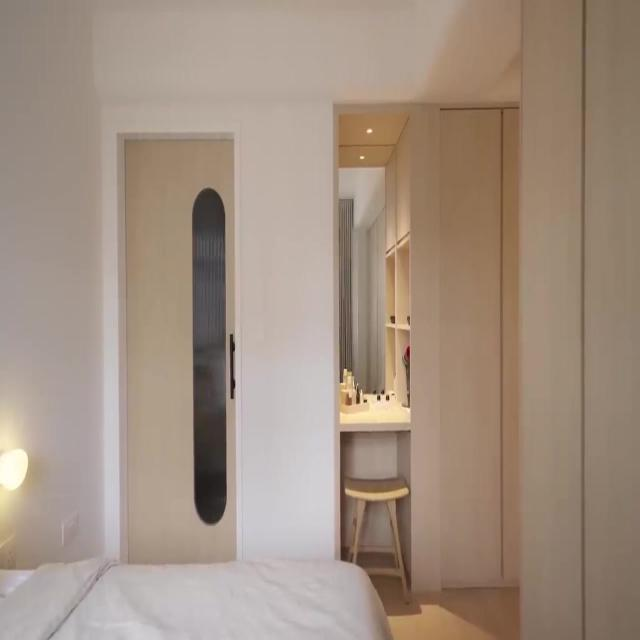door: (125, 134, 238, 564)
obstacle: (0, 555, 394, 638), (342, 474, 412, 592)
